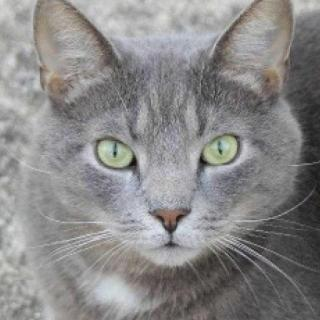cat: (23, 0, 306, 277)
nose: (140, 168, 200, 238)
